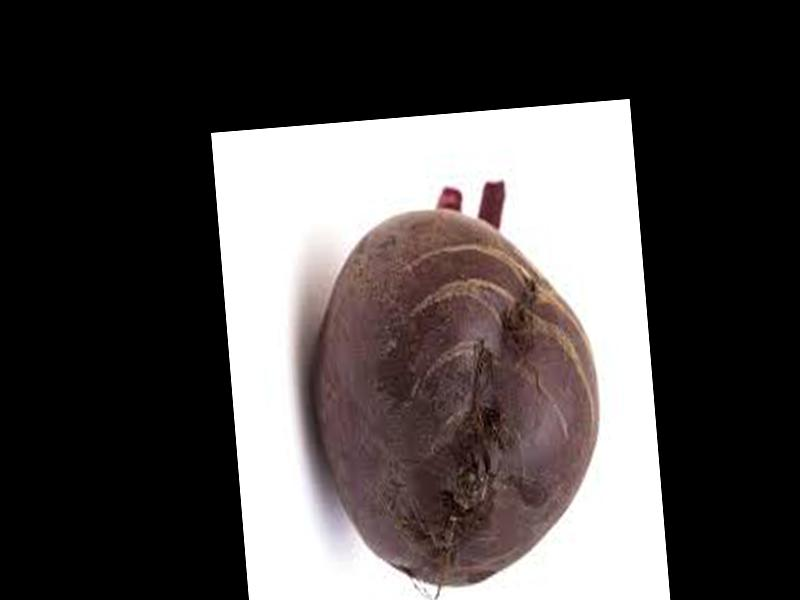Beet: (293, 177, 615, 598)
